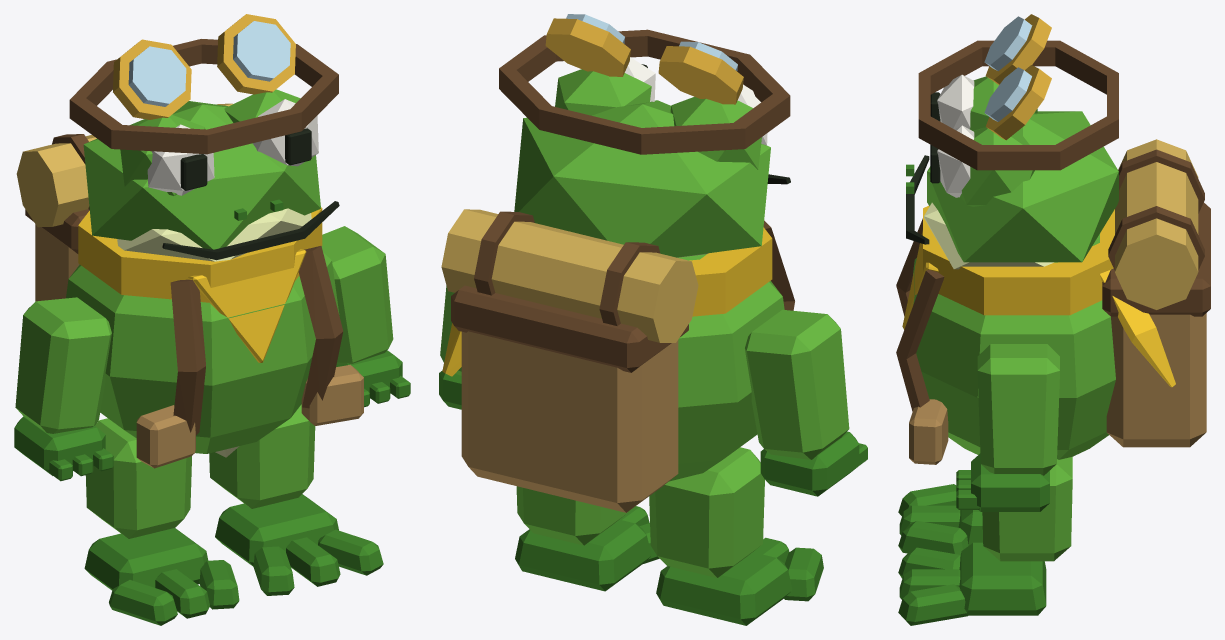
File: CaptainCroak.fbx
3 views of the same model, side by side, from view 1: azimuth 30°, elevation 25°; view 2: azimuth 150°, elevation 25°; view 3: azimuth 270°, elevation 25° (orthographic). The views are drawn at different scales.
Parts seen in each view (by area): view 1: Torso, Head, Scarf, RightArm, RightLegFoot, Goggles, LeftLegFoot, Straps, RightLeg, LeftArm, LeftLeg, GoggleLens (+12 smaller); view 2: Backpack, Head, Bedroll, RightArm, Goggles, Torso, RightLeg, BackpackFlap, RightLegFoot, GoggleRims, LeftLegFoot, EyeBulges (+8 smaller); view 3: Torso, Head, Scarf, Backpack, Goggles, Bedroll, LeftArm, LeftLegFoot, LeftLeg, RightLegFoot, LeftArmHand, Straps (+10 smaller).
Boxes of the visible parts, box(x1,y1,x2,y2) form: Torso: box(66, 252, 339, 453); Head: box(83, 101, 320, 249); Scarf: box(78, 207, 322, 362); RightArm: box(15, 297, 111, 433); RightLegFoot: box(84, 528, 239, 625); Goggles: box(69, 39, 338, 154); LeftLegFoot: box(215, 494, 383, 595); Straps: box(170, 246, 343, 435); RightLeg: box(85, 418, 191, 538); LeftArm: box(321, 226, 393, 364); LeftLeg: box(209, 404, 315, 508); GoggleLens: box(128, 21, 290, 106); Backpack: box(461, 331, 678, 512); Head: box(514, 100, 770, 257); Bedroll: box(441, 209, 698, 342); RightArm: box(745, 309, 849, 459); Goggles: box(499, 29, 790, 154); Torso: box(669, 254, 784, 481); RightLeg: box(649, 447, 764, 577); BackpackFlap: box(451, 285, 688, 372); RightLegFoot: box(656, 537, 823, 625); GoggleRims: box(545, 18, 743, 104); LeftLegFoot: box(515, 506, 659, 591); EyeBulges: box(555, 69, 761, 169); Torso: box(912, 234, 1115, 459); Head: box(927, 111, 1118, 262); Scarf: box(902, 205, 1175, 387); Backpack: box(1106, 313, 1206, 447); Goggles: box(918, 40, 1118, 170); Bedroll: box(1115, 139, 1198, 309); LeftArm: box(977, 344, 1059, 475); LeftLegFoot: box(898, 542, 1046, 625); LeftLeg: box(982, 457, 1072, 561); RightLegFoot: box(898, 484, 982, 554); LeftArmHand: box(956, 453, 1049, 511); Straps: box(896, 218, 944, 411).
Size of the model in its own units: 4.95 by 6.92 by 3.77.
